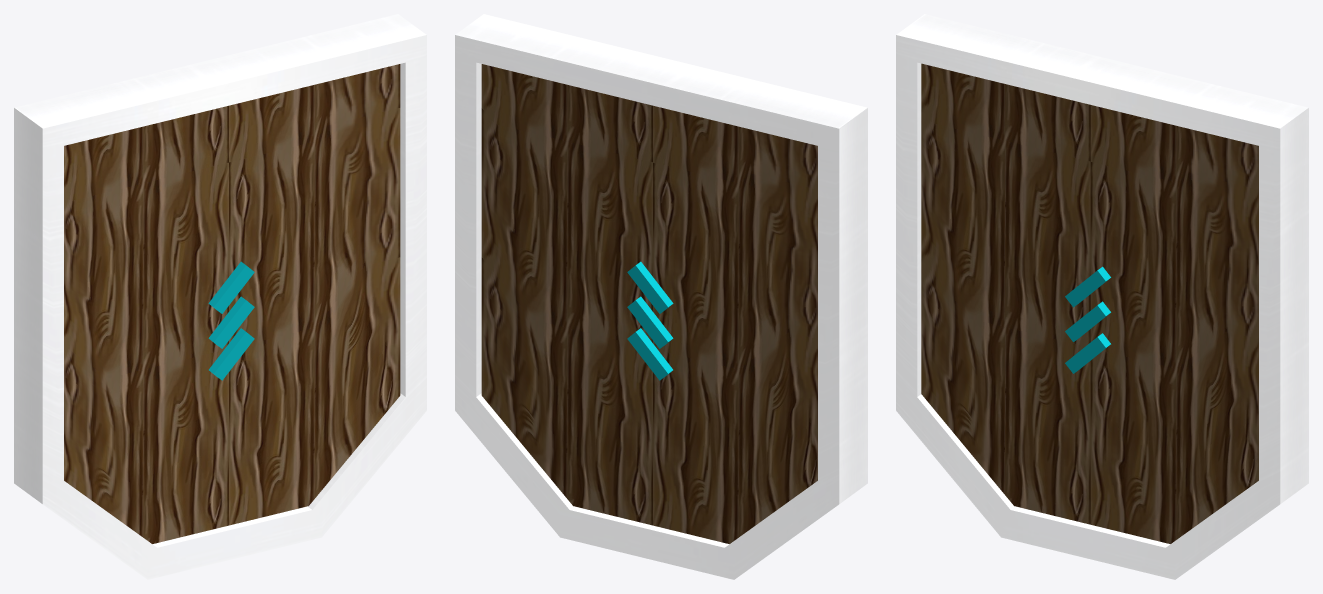
The model's file is shieldWood.gltf.
The picture shows the model from 3 angles, left to right: view 1: azimuth 30°, elevation 25°; view 2: azimuth 150°, elevation 25°; view 3: azimuth 330°, elevation 25°; orthographic projection.
Parts seen in each view (by area): view 1: Cube, Cube.007, Cube.001, Cube.003, Cube.002, Cube.004, Cube.005, Cube.006; view 2: Cube, Cube.007, Cube.001, Cube.003, Cube.002, Cube.004, Cube.005, Cube.006; view 3: Cube, Cube.001, Cube.007, Cube.002, Cube.003, Cube.006, Cube.004, Cube.005.
Part boxes in pixels (x1=…): Cube: x1=14, y1=14, x2=426, y2=579; Cube.007: x1=143, y1=105, x2=228, y2=543; Cube.001: x1=229, y1=85, x2=314, y2=525; Cube.003: x1=314, y1=64, x2=400, y2=498; Cube.002: x1=64, y1=126, x2=143, y2=537; Cube.004: x1=209, y1=328, x2=254, y2=380; Cube.005: x1=208, y1=296, x2=254, y2=348; Cube.006: x1=208, y1=261, x2=254, y2=313; Cube: x1=455, y1=14, x2=867, y2=579; Cube.007: x1=653, y1=105, x2=738, y2=543; Cube.001: x1=567, y1=85, x2=652, y2=525; Cube.003: x1=481, y1=64, x2=567, y2=498; Cube.002: x1=738, y1=126, x2=817, y2=537; Cube.004: x1=627, y1=328, x2=672, y2=380; Cube.005: x1=627, y1=296, x2=673, y2=348; Cube.006: x1=627, y1=261, x2=673, y2=313; Cube: x1=896, y1=14, x2=1308, y2=579; Cube.001: x1=1090, y1=105, x2=1176, y2=543; Cube.007: x1=1005, y1=84, x2=1090, y2=524; Cube.002: x1=921, y1=63, x2=1004, y2=494; Cube.003: x1=1176, y1=126, x2=1258, y2=539; Cube.006: x1=1065, y1=266, x2=1110, y2=307; Cube.004: x1=1065, y1=333, x2=1110, y2=373; Cube.005: x1=1065, y1=301, x2=1110, y2=341.
Size of the model in its own units: 2.91 by 3.45 by 0.4058.
Materials: 3 (2 with a texture image).
